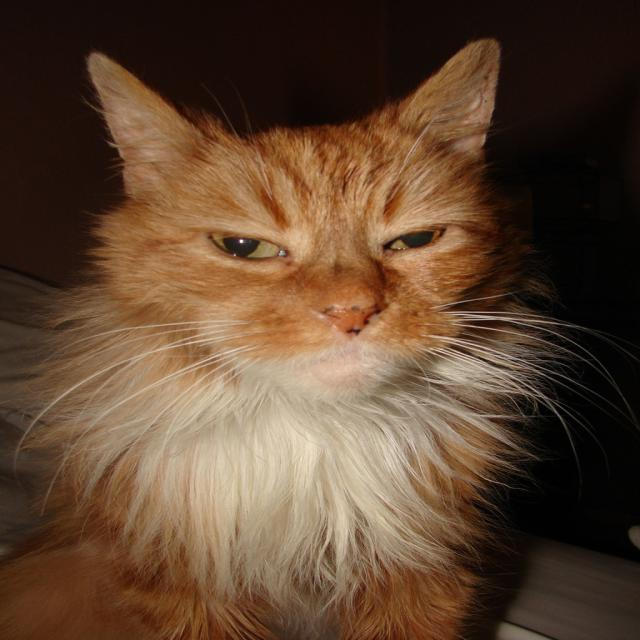Cat: (0, 49, 638, 638)
